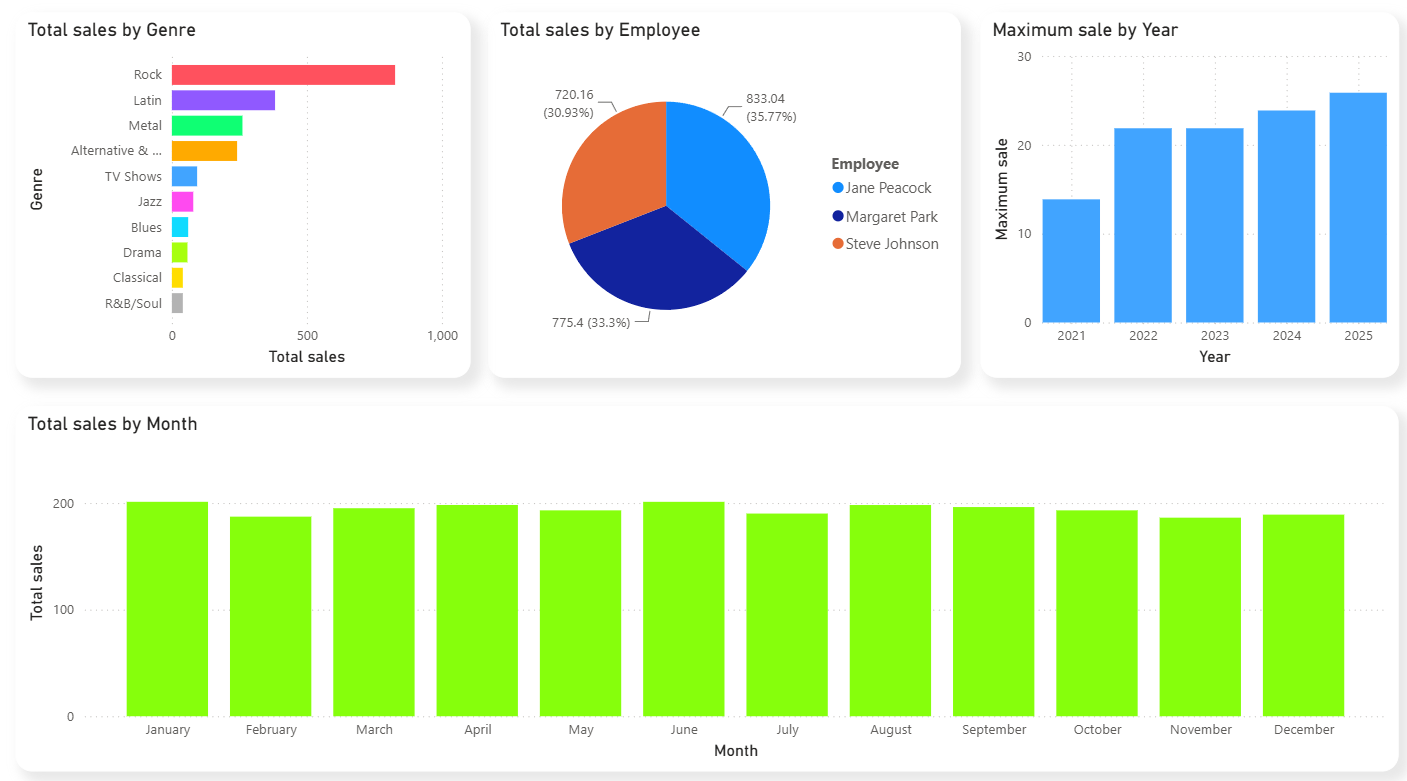

What the dashboard file says about the page in this screenshot:
{"tool":"powerbi","page":{"name":"Sales Analysis","canvas":[1280,720],"ordinal":1},"visuals":[{"type":"pieChart","fields":{"Category":["employee.full_name"],"Y":["Sum(invoice.total)"]},"box":[446,19.2,426.8,329.3],"z":0},{"type":"columnChart","fields":{"Y":["Sum(invoice.total)"],"Category":["invoice.invoice_date.Variation.Date Hierarchy.Month"]},"box":[20.6,374.6,1247.3,329.3],"z":1000},{"type":"barChart","fields":{"Category":["genre.name"],"Y":["_measures.Total Sales by Genre"]},"box":[20.6,19.2,410.3,329.3],"z":2000},{"type":"columnChart","fields":{"Category":["invoice.invoice_date.Variation.Date Hierarchy.Year","invoice.invoice_date.Variation.Date Hierarchy.Year1","invoice.invoice_date.Variation.Date Hierarchy.Quarter"],"Y":["Max(invoice.total)"]},"box":[890.6,19.2,377.4,329.3],"z":3000}]}

Visuals, with their boxes in screenshot pixels (x1, y1, x2, y2), scaled from the page's 1280x720 canvas onto the 1407x781 screenshot:
pieChart - employee.full_name x Sum(invoice.total): bbox=(490, 21, 959, 378)
columnChart - Sum(invoice.total) x invoice.invoice_date.Variation.Date Hierarchy.Month: bbox=(23, 406, 1394, 764)
barChart - genre.name x _measures.Total Sales by Genre: bbox=(23, 21, 474, 378)
columnChart - invoice.invoice_date.Variation.Date Hierarchy.Year x invoice.invoice_date.Variation.Date Hierarchy.Year1: bbox=(979, 21, 1394, 378)
